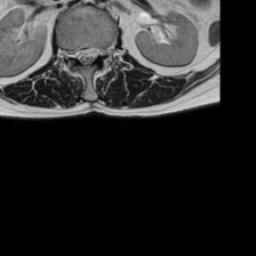CCS_normal: (82, 40, 89, 72)
LFS_normal: (98, 41, 105, 62)
LLS_normal: (89, 40, 97, 66)
RFS_normal: (68, 42, 74, 66)
RLS_normal: (74, 42, 82, 67)
